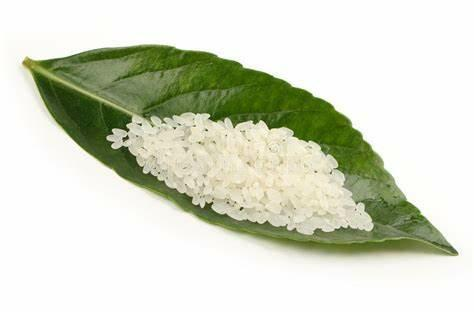WhiteRice: (105, 111, 374, 235)
